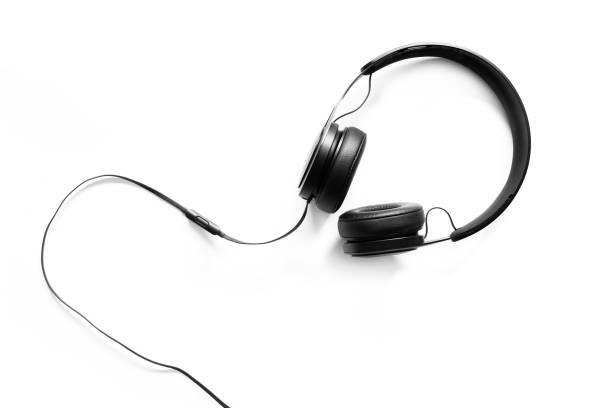headphone: (296, 29, 551, 287)
